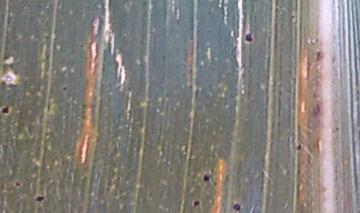tarspot: (243, 29, 255, 44), (311, 99, 320, 117), (34, 193, 46, 205), (314, 48, 322, 62), (231, 202, 242, 212), (191, 198, 201, 208), (202, 171, 210, 183), (295, 142, 304, 152), (1, 105, 10, 115), (13, 180, 21, 188), (311, 91, 319, 99), (61, 84, 68, 91), (334, 125, 341, 132), (290, 13, 295, 21)
